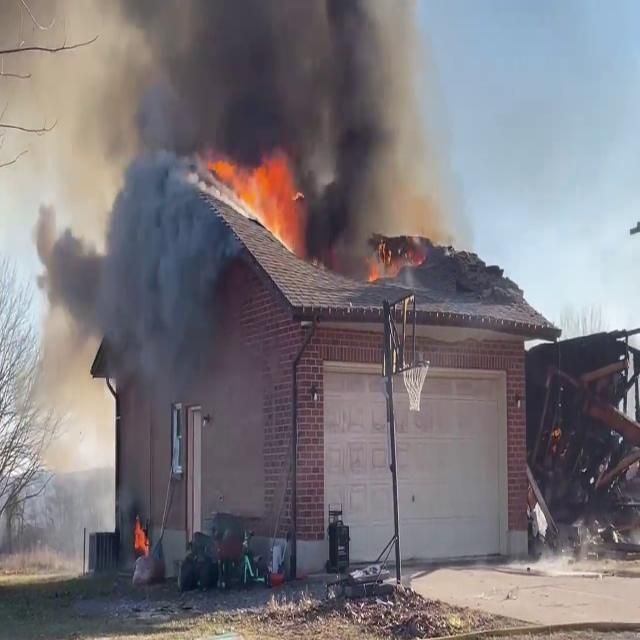Fire: (212, 146, 306, 248), (132, 508, 150, 560)
Smoke: (42, 0, 452, 254), (31, 2, 242, 410)
